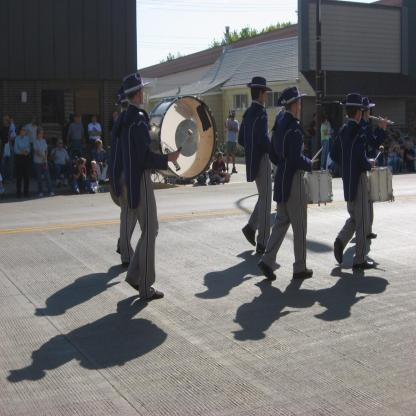face: (262, 87, 268, 106), (140, 88, 146, 105), (297, 99, 301, 117), (59, 141, 64, 148), (22, 128, 26, 135), (33, 118, 37, 124), (4, 119, 7, 127), (41, 132, 44, 139), (115, 114, 118, 121), (100, 144, 103, 150), (221, 156, 224, 162), (78, 118, 81, 123), (408, 143, 411, 148), (83, 163, 86, 168), (93, 120, 96, 124), (326, 119, 328, 125), (394, 144, 397, 148), (233, 114, 235, 119), (11, 121, 14, 124), (94, 166, 96, 170)
